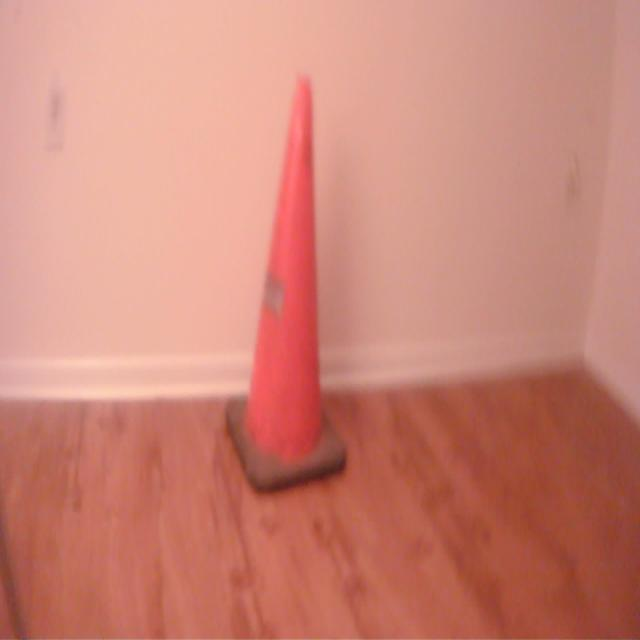traffic cone: (219, 68, 354, 501)
